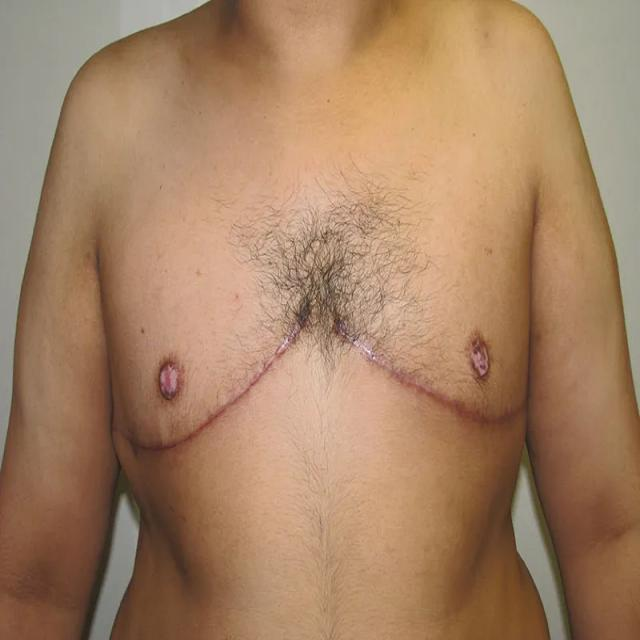Seno herido: (104, 223, 317, 482), (322, 224, 533, 456)
